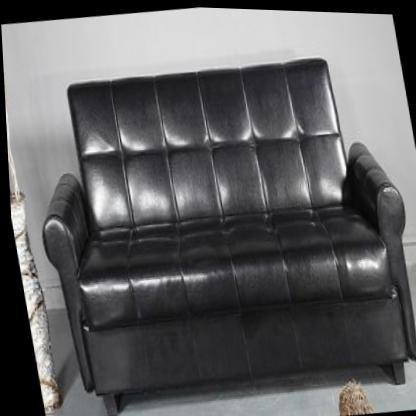Sofa: (12, 35, 416, 416)
